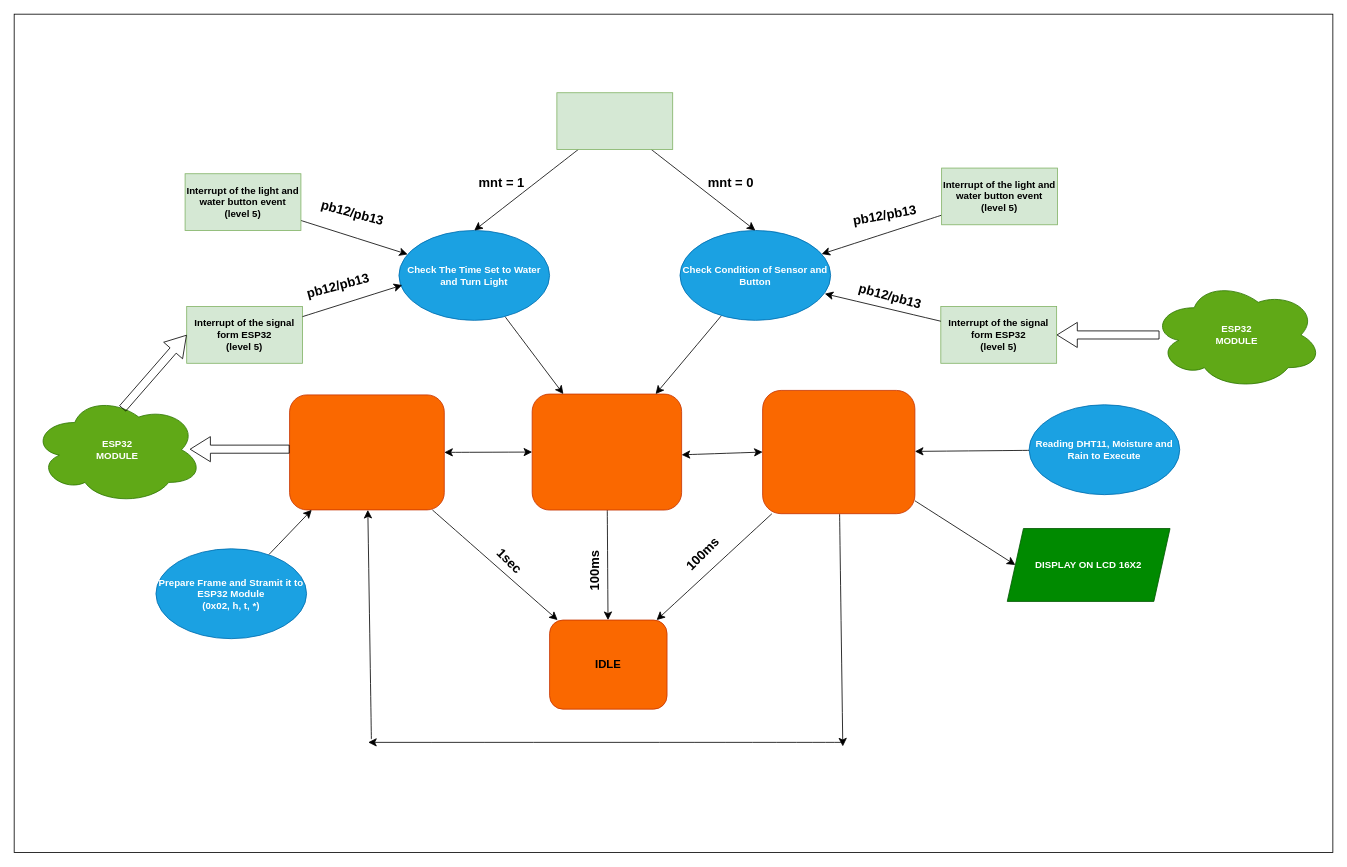
Some shapes in this 1347 by 867 pixel diagram are drawn without their labels. The centre of each missing label's shape, as x and y in pixels:
CHECK TASK (priority 2): [606,451]
Interrupt of the "state" button event (level 7): [614,120]
SENSOR TASK (priority 1): [838,452]
UART TASK (priority 3): [366,452]
